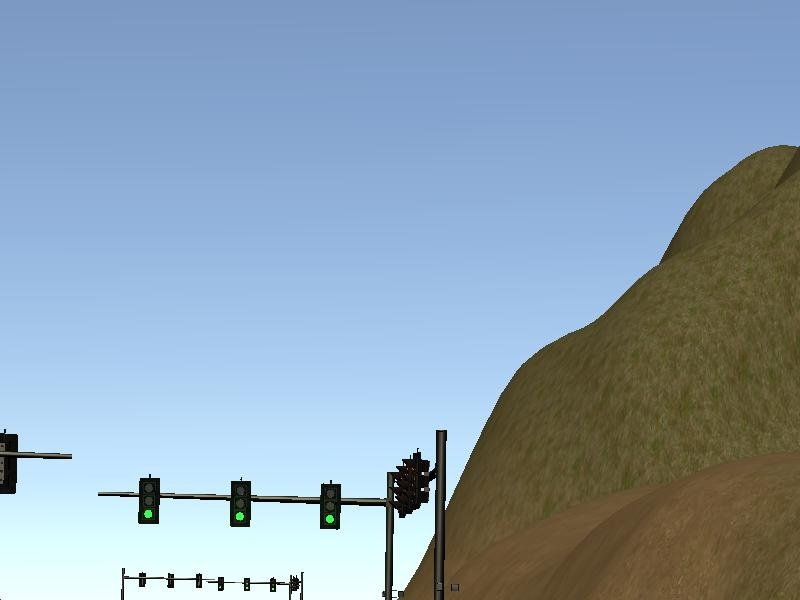green: (138, 479, 161, 526), (230, 480, 252, 529), (320, 484, 342, 531)
